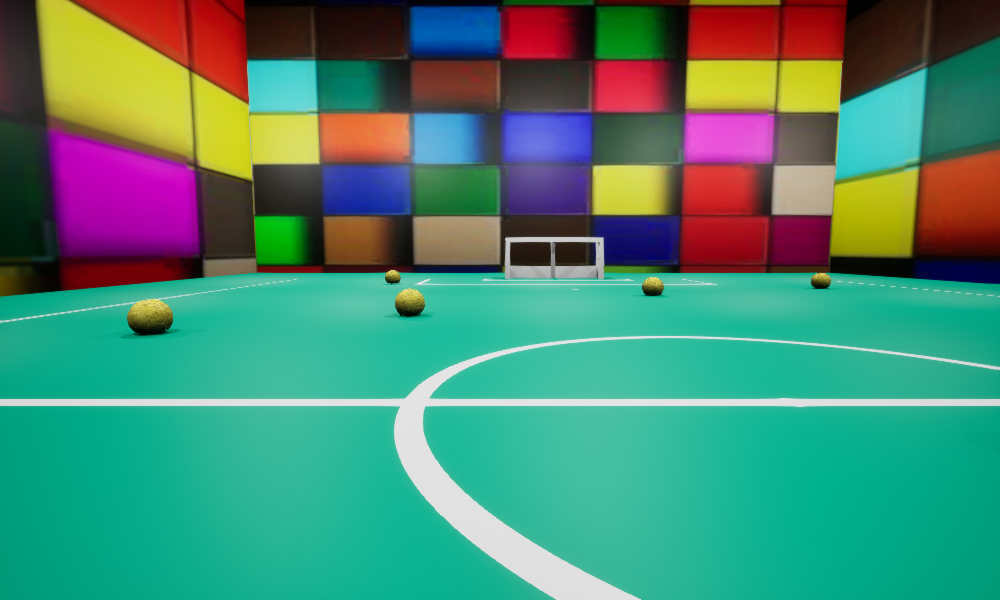b: (127, 299, 172, 334), (395, 288, 424, 315), (642, 277, 663, 295), (811, 273, 830, 288), (385, 270, 400, 283)
g: (505, 237, 603, 278)
